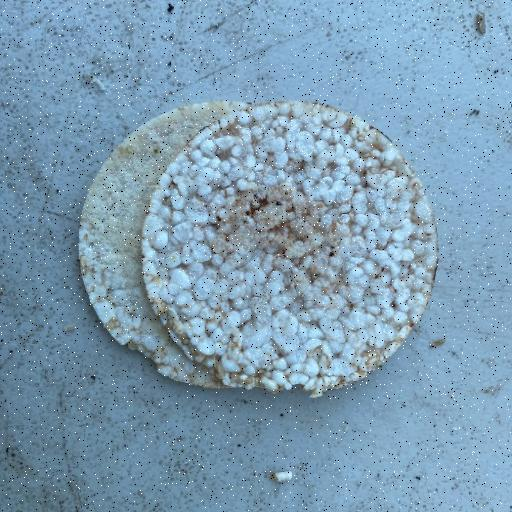Waste: (76, 98, 440, 398)
